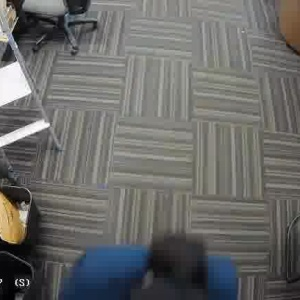person: (70, 242, 245, 300)
